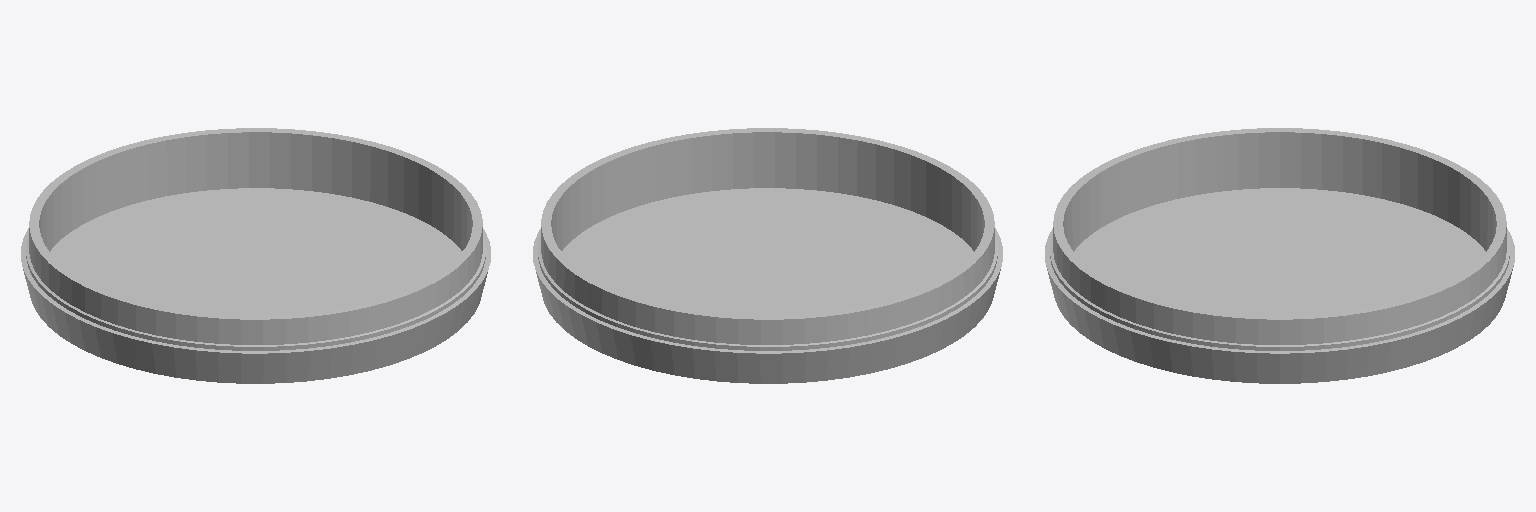
File: petri_dish.obj
3 renders of one model, left to right at view 1: azimuth 30°, elevation 25°; view 2: azimuth 150°, elevation 25°; view 3: azimuth 270°, elevation 25°, orthographic.
Parts seen in each view (by area): view 1: Cylinder; view 2: Cylinder; view 3: Cylinder.
Boxes of the visible parts, x1,y1,x2,y2 form: Cylinder: [21, 128, 490, 383]; Cylinder: [533, 128, 1002, 383]; Cylinder: [1045, 128, 1514, 383].
Size of the model in its own units: 2.09 by 0.315 by 2.09.